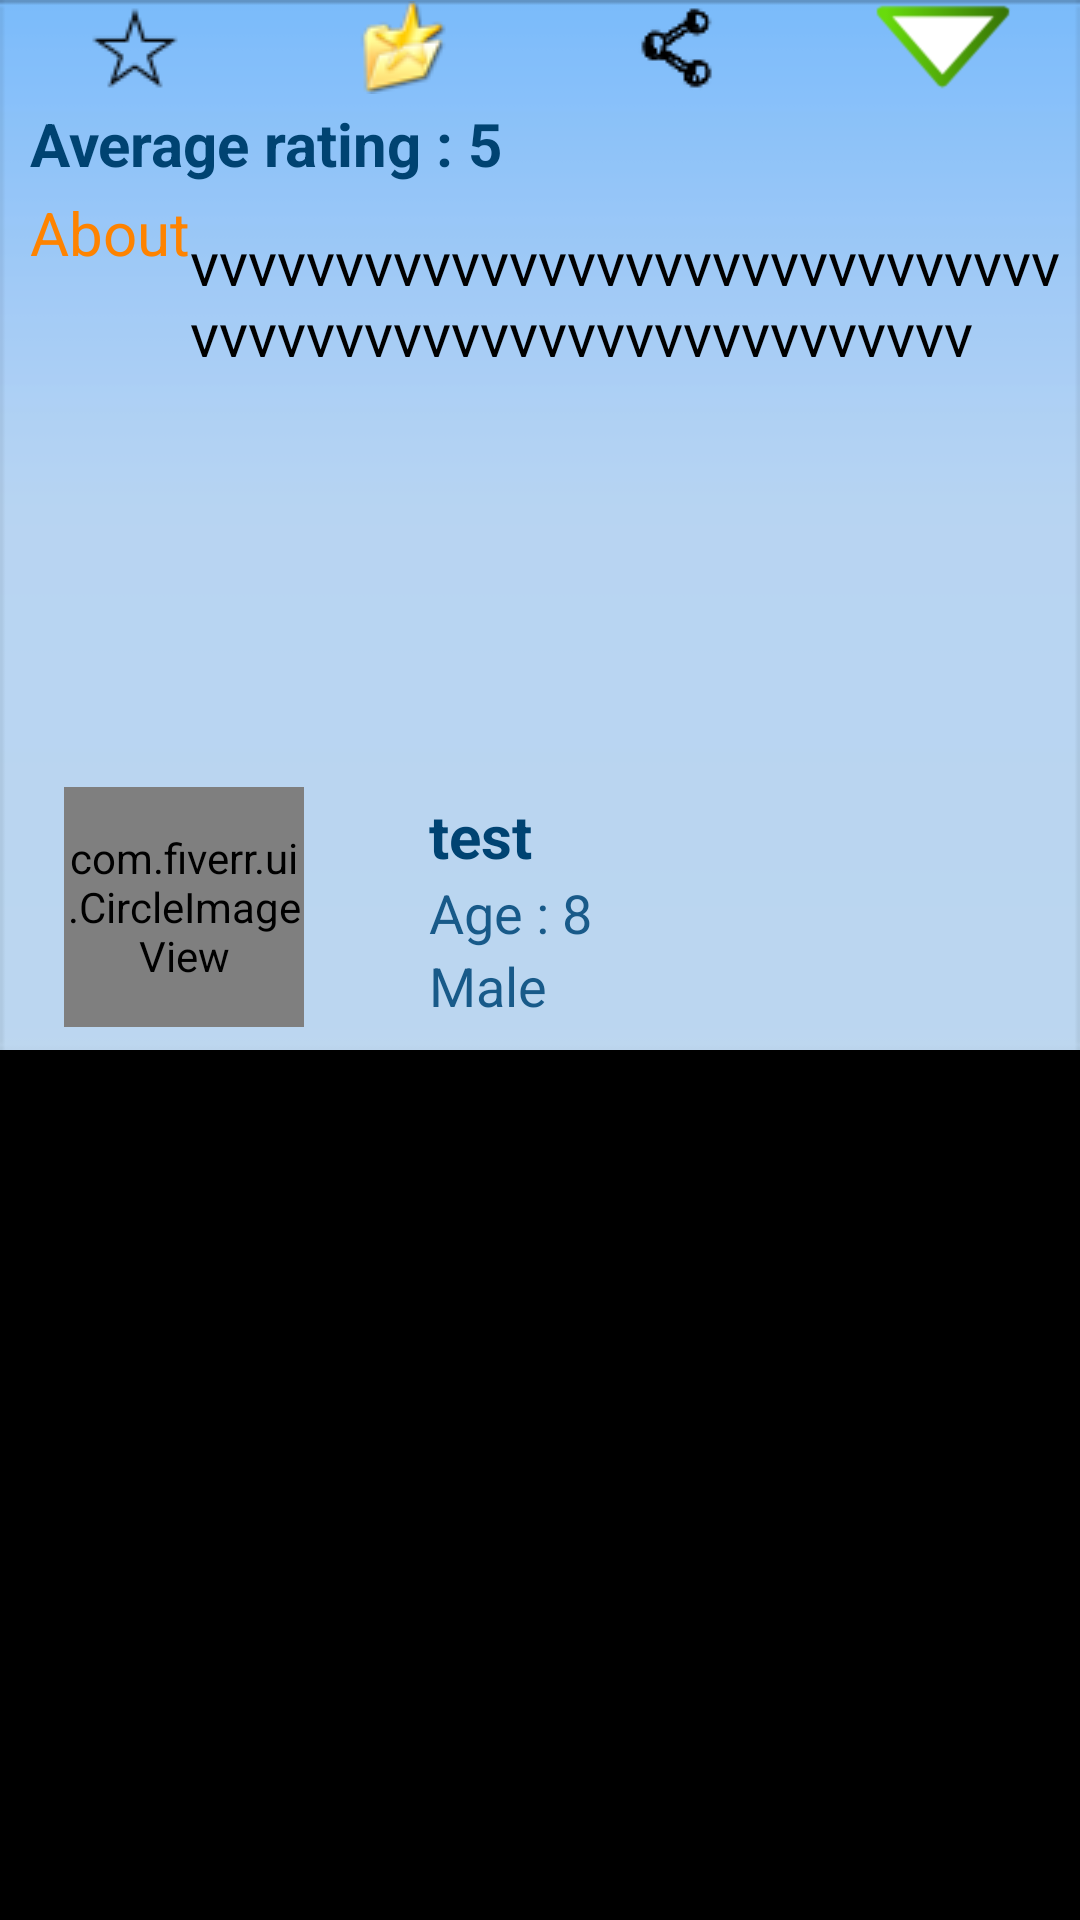

Icons on this 1080 × 1920 Android screen, each with its box as [x1,y1,x2,y2]:
favorites: [358,1,451,94]
share: [641,8,712,88]
star: [93,9,177,88]
